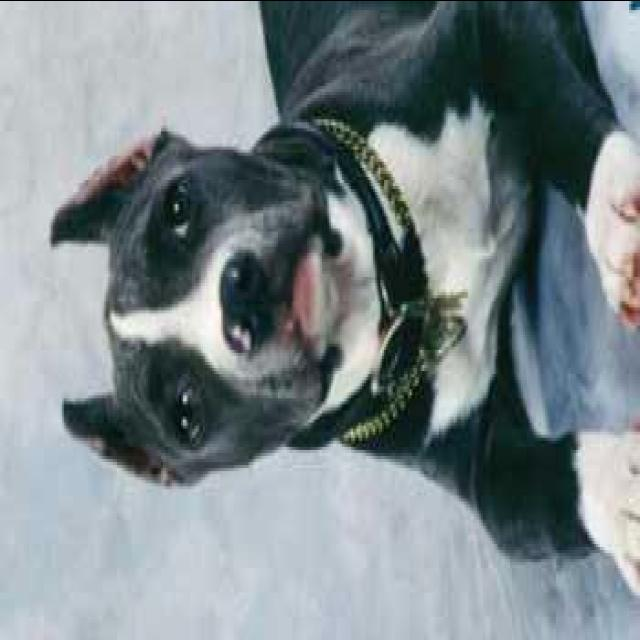staffordshire_bullterrier: (46, 3, 638, 595)
